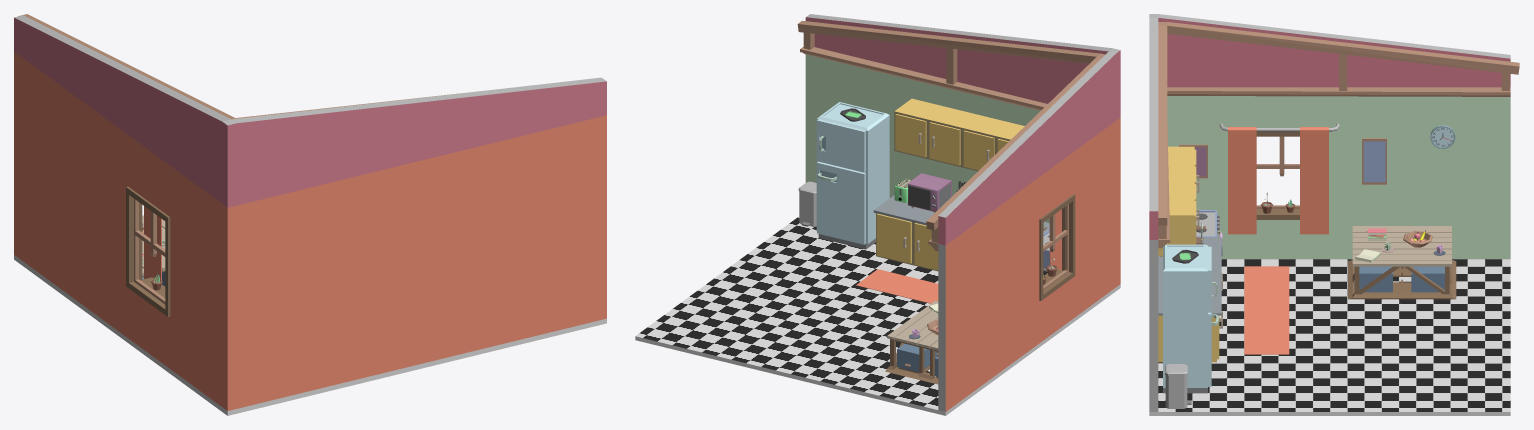
The model's file is KItchen.fbx.
3 renders of one model, left to right at view 1: azimuth 30°, elevation 25°; view 2: azimuth 150°, elevation 25°; view 3: azimuth 270°, elevation 25°, orthographic. The views are drawn at different scales.
Visible parts, largest first — view 1: Wall_L, Wall_R, Window, FloorMat; view 2: Wall_R, FloorMat, Wall_L, Refrigerator, Kitchen_Cupboard, KItchen_platform, Table, Window, Plane, Oven, TrashCan; view 3: Wall_R, FloorMat, Window, Table, Refrigerator, Wall_L, Plane, Kitchen_Cupboard, KItchen_platform, Painting, TrashCan, GasRange (+3 smaller).
Boxes of the visible parts, <box> form: Wall_L: <box>222,77,606,410</box>; Wall_R: <box>14,14,234,406</box>; Window: <box>126,186,170,316</box>; FloorMat: <box>14,255,606,415</box>; Wall_R: <box>926,51,1116,411</box>; FloorMat: <box>635,216,1120,415</box>; Wall_L: <box>797,14,1120,286</box>; Refrigerator: <box>816,102,889,249</box>; Kitchen_Cupboard: <box>894,98,1024,171</box>; KItchen_platform: <box>873,195,1049,271</box>; Table: <box>885,300,938,384</box>; Window: <box>1039,194,1075,300</box>; Plane: <box>856,269,938,303</box>; Oven: <box>908,173,951,212</box>; TrashCan: <box>798,181,816,226</box>; Wall_R: <box>1158,14,1519,259</box>; FloorMat: <box>1149,259,1510,415</box>; Window: <box>1219,123,1339,234</box>; Table: <box>1348,226,1456,299</box>; Refrigerator: <box>1163,244,1218,393</box>; Wall_L: <box>1149,14,1170,411</box>; Plane: <box>1244,266,1289,354</box>; Kitchen_Cupboard: <box>1158,146,1199,256</box>; KItchen_platform: <box>1158,237,1222,362</box>; Painting: <box>1179,138,1386,184</box>; TrashCan: <box>1165,364,1191,408</box>; GasRange: <box>1196,210,1222,255</box>.
Size of the model in its own units: 275 by 198 by 270.
Materials: 2 (2 with a texture image).
